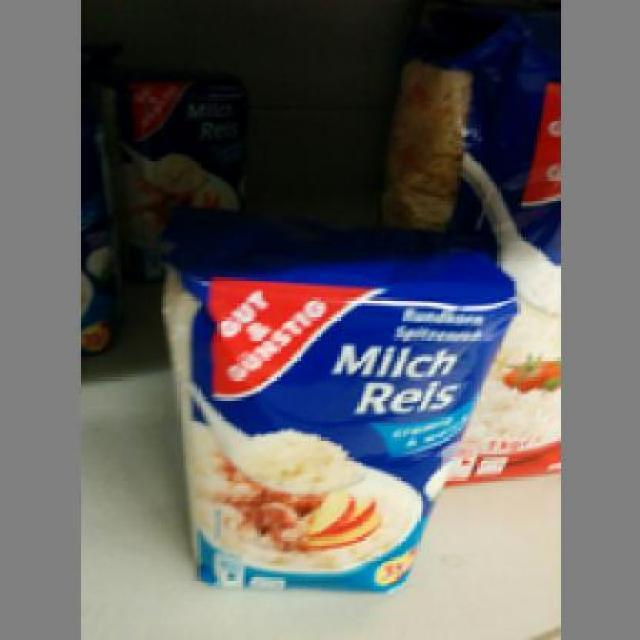Rice: (157, 203, 517, 592), (380, 20, 554, 486)
